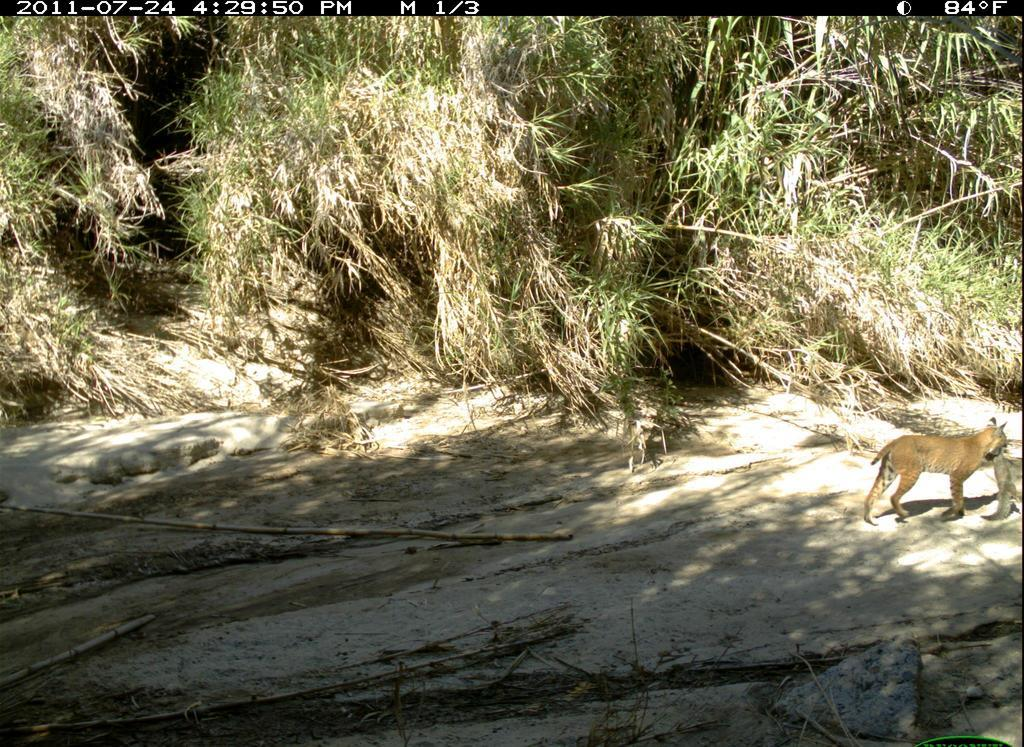bobcat: (854, 414, 1010, 526)
squirrel: (978, 440, 1023, 531)
